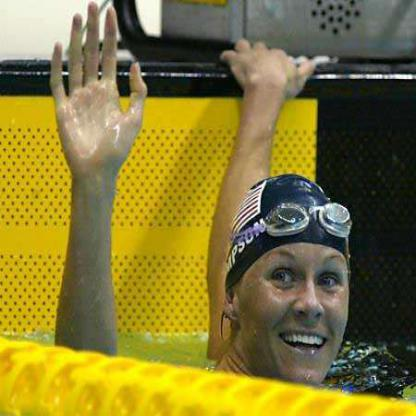face: (236, 179, 356, 389)
